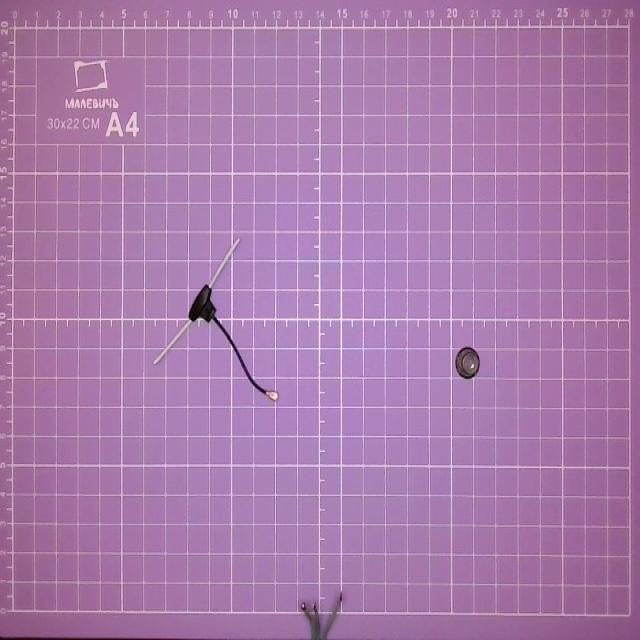antenna: (155, 237, 282, 403)
screw_M5: (451, 346, 488, 383)
